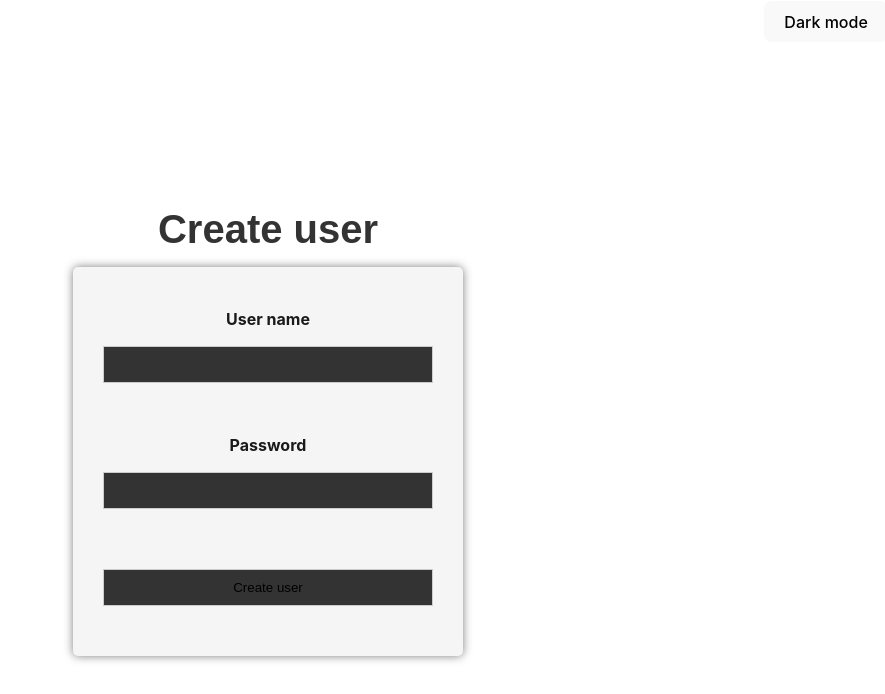
Test: App › should render error message when form was submit with a weak password
The image size is (885, 694).
Expected: the text "Password must be at least 8 characters long" is not shown
Type "John" into the field labelled "User name". click: (268, 364)
box: x1=103 y1=346 x2=433 y2=382
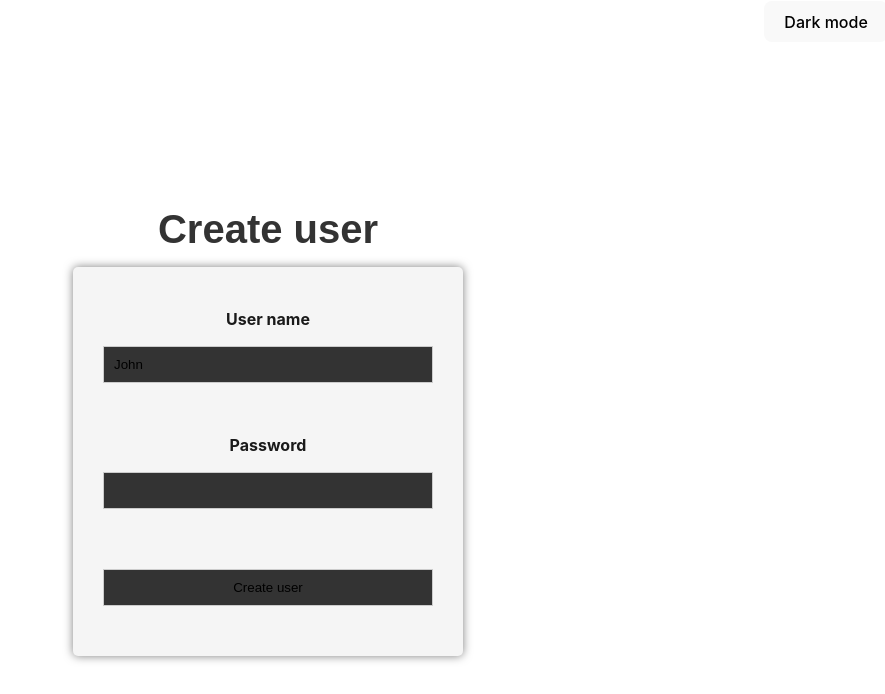
Type "123" into the password field labelled "Password". click: (268, 490)
box: x1=103 y1=472 x2=433 y2=508
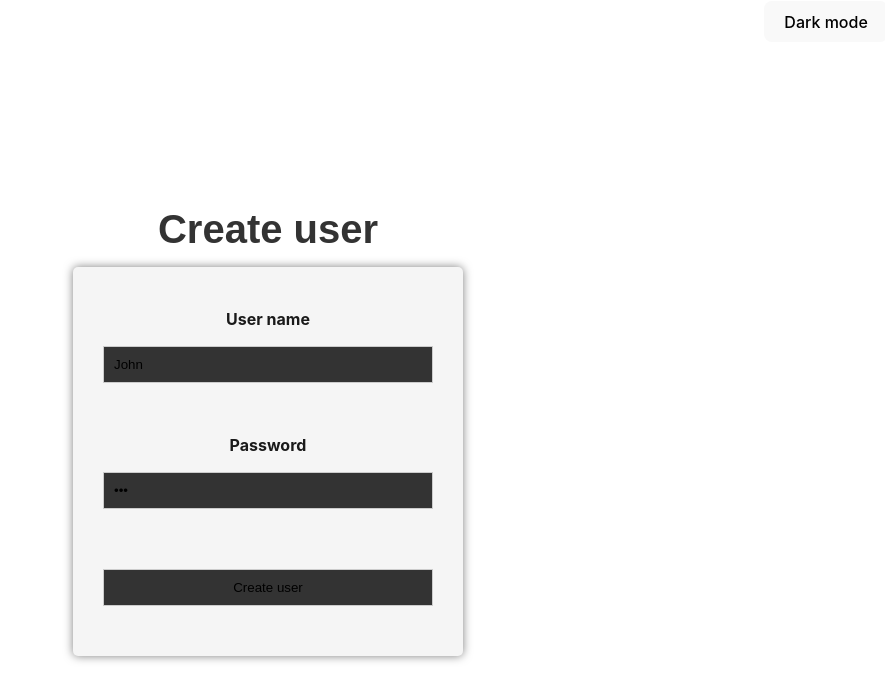
Click the button "Create user". click: (268, 587)
box: x1=103 y1=568 x2=433 y2=606
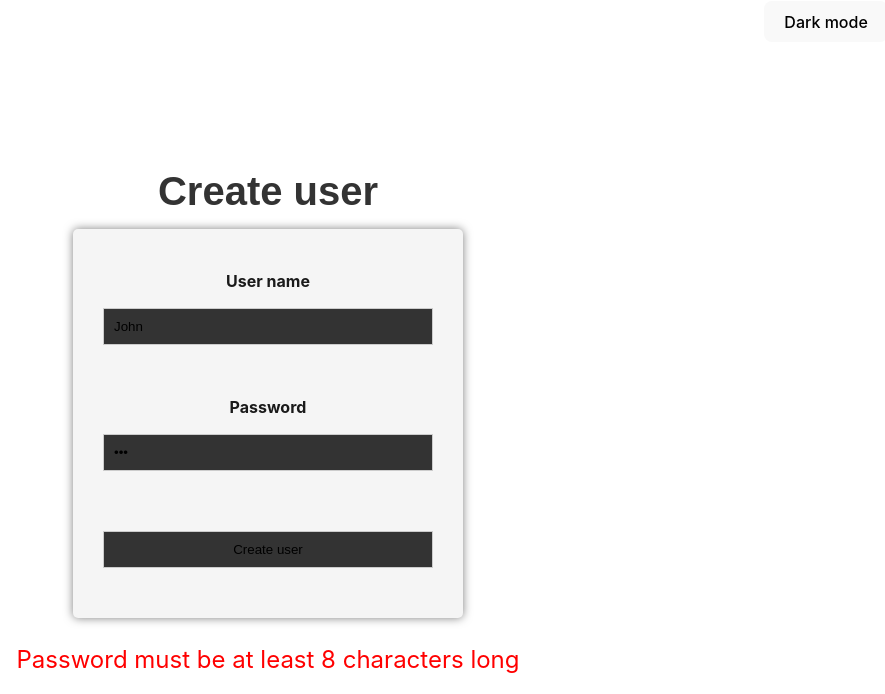
Result: the text "Password must be at least 8 characters long" is shown at x1=16 y1=642 x2=520 y2=678
